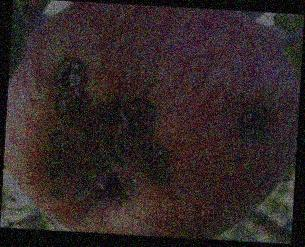rotten apple: (6, 6, 297, 235)
